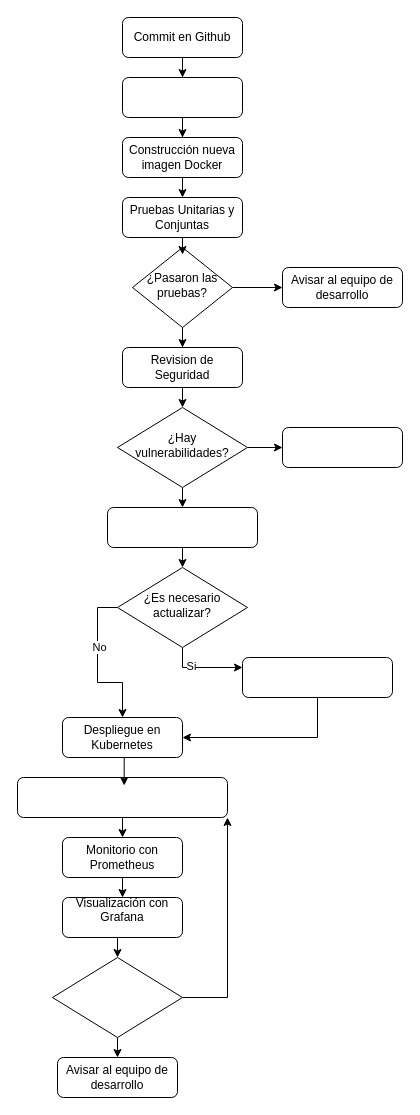
Image size: 420x1115. Some labels were removed from this diagram. Here are the shapes that lost their labels. From the top down, the centre of each, then its label:
At pixel 182 97: "Inicio del Pipeline".
At pixel 342 447: "Avisar al equipo encargado".
At pixel 182 527: "Revision de Infraestrucutra".
At pixel 317 677: "Actualizar Infraestructura (Terraform)".
At pixel 122 797: "Supervision Continua".
At pixel 117 997: "¿Hay alguna falla?".
